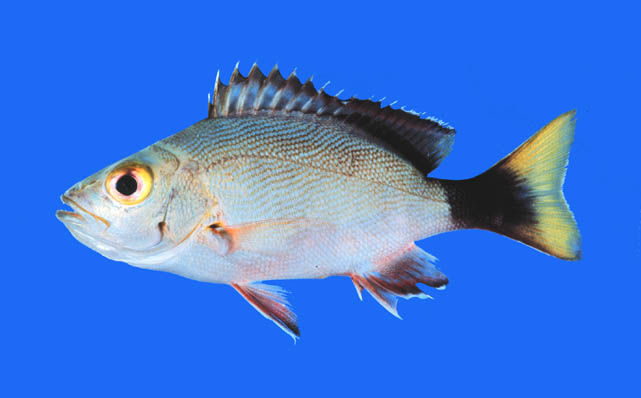fish: (55, 58, 584, 341)
